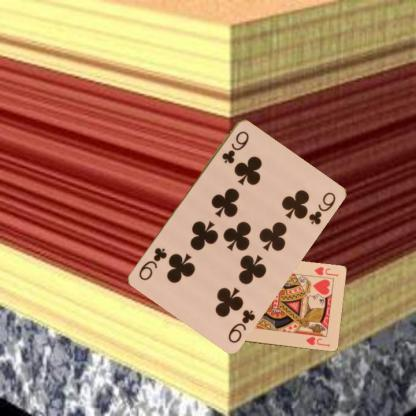9c: (219, 127, 250, 164), (226, 307, 257, 344)
Jh: (312, 264, 339, 278)
